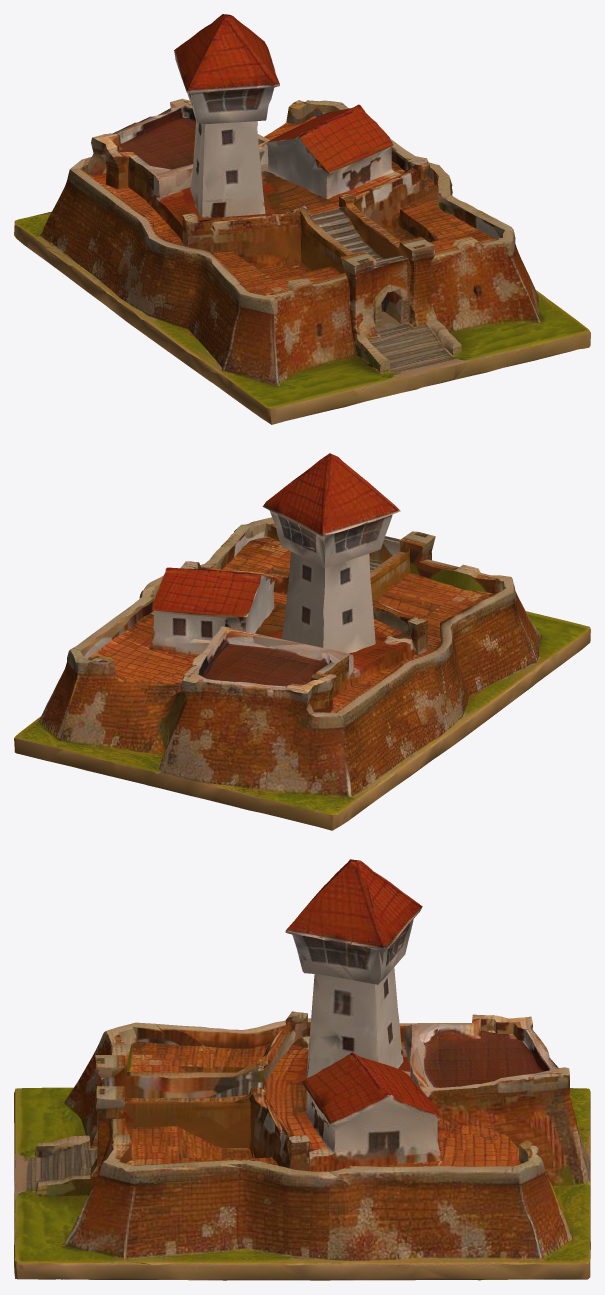
The model's file is anping-fort.glb.
3 renders of one model, top to bottom at view 1: azimuth 30°, elevation 25°; view 2: azimuth 150°, elevation 25°; view 3: azimuth 270°, elevation 25°, orthographic. The views are drawn at different scales.
Visible parts, largest first — view 1: logan-textured.obj; view 2: logan-textured.obj; view 3: logan-textured.obj.
Part boxes in pixels (x1,y1,x2,y2): logan-textured.obj: [14, 14, 590, 424]; logan-textured.obj: [14, 453, 590, 830]; logan-textured.obj: [14, 859, 590, 1280].
Size of the model in its own units: 0.7321 by 0.5832 by 1.
1 material, 1 textured.
